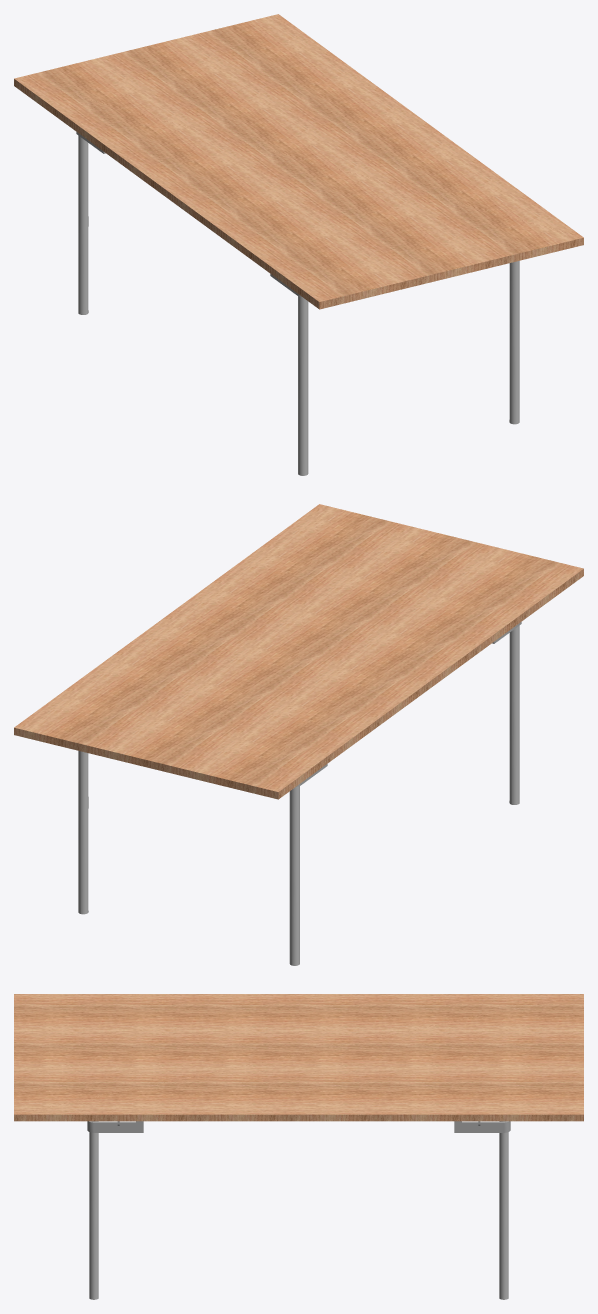
The model's file is table03.glb.
3 renders of one model, top to bottom at view 1: azimuth 30°, elevation 25°; view 2: azimuth 150°, elevation 25°; view 3: azimuth 270°, elevation 25°, orthographic. The views are drawn at different scales.
Visible parts, largest first — view 1: table03; view 2: table03; view 3: table03.
Part boxes in pixels (x1,y1,x2,y2): table03: [14, 14, 583, 475]; table03: [14, 504, 583, 965]; table03: [14, 994, 583, 1299].
Size of the model in its own units: 0.7568 by 0.5726 by 1.51.
3 materials, 1 textured.
